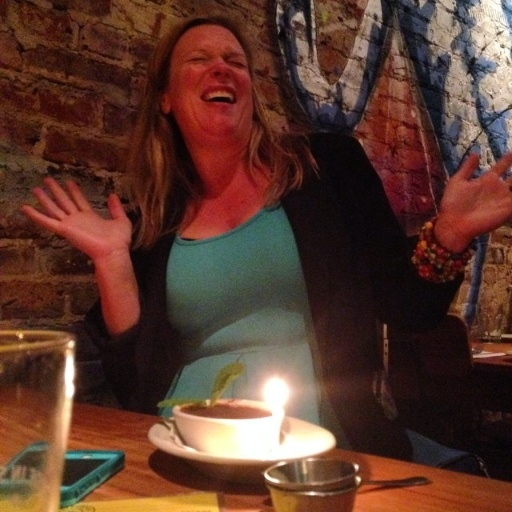hand: (27, 160, 152, 325), (439, 148, 511, 245)
